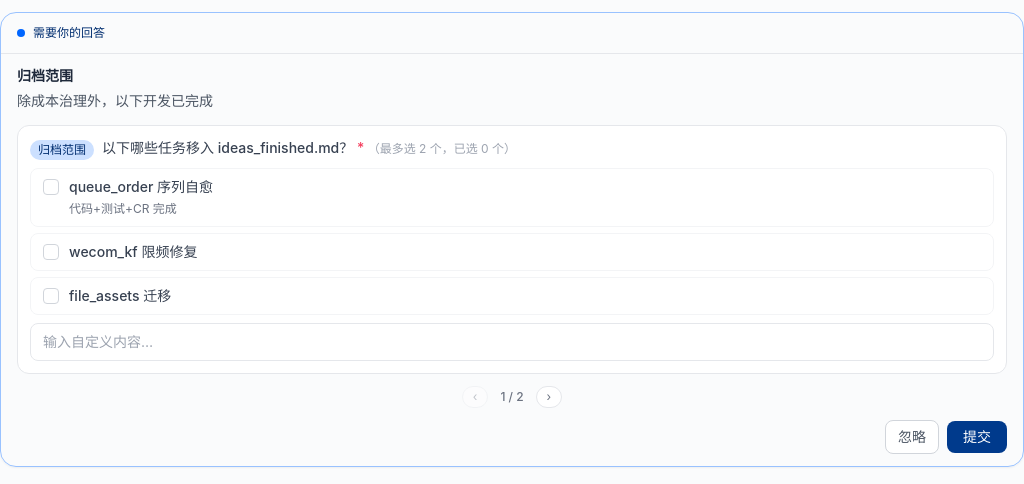
Scenario: QuestionCard rendering (设计 §7.1) › pages multi-question forms with ‹ 1/N › and disables out-of-range paging
The width and height of the screenshot is (1024, 484).
Check: the text with test id "page-indicator" reads "1 / 2", box x1=500 y1=389 x2=524 y2=404
Check: the button with test id "prev-page" is disabled, box x1=462 y1=386 x2=488 y2=408
Click the button with test id "next-page" at (549, 397), box x1=536 y1=386 x2=562 y2=408
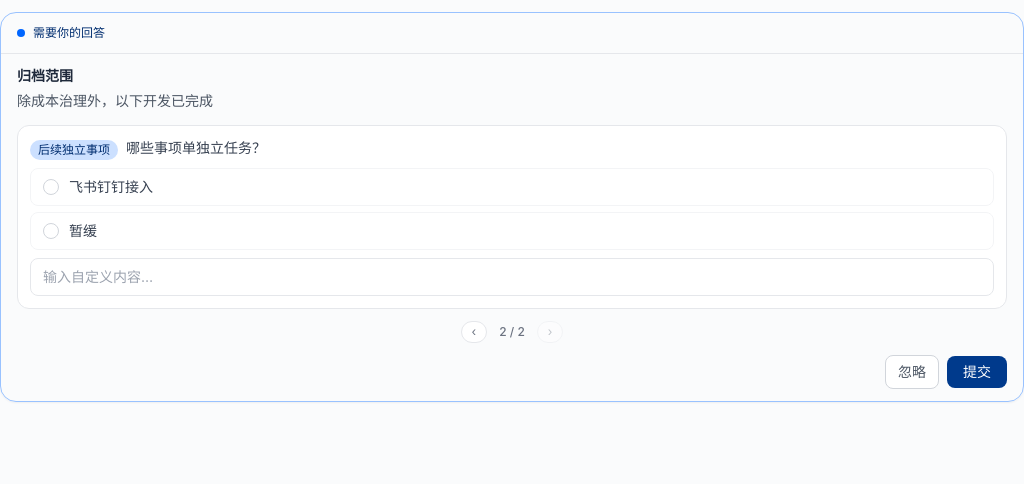
Check: the button with test id "next-page" is disabled, box x1=537 y1=321 x2=563 y2=343
Check: the text with test id "page-indicator" reads "2 / 2", box x1=499 y1=324 x2=525 y2=339
